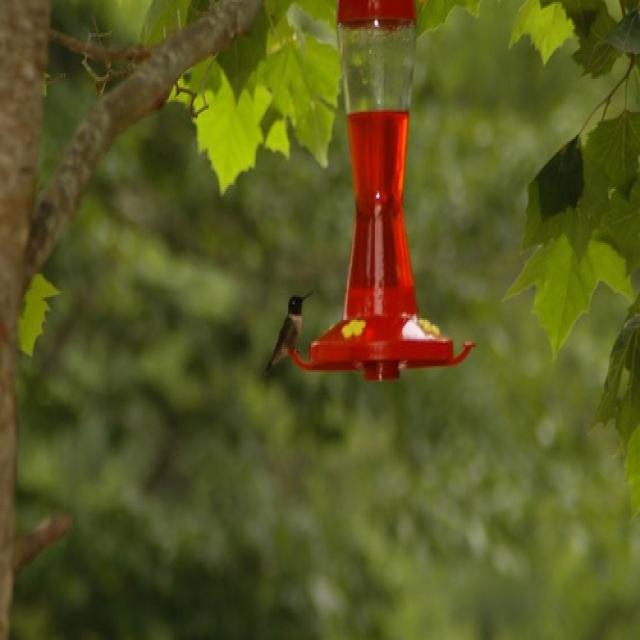bird: (268, 289, 312, 370)
